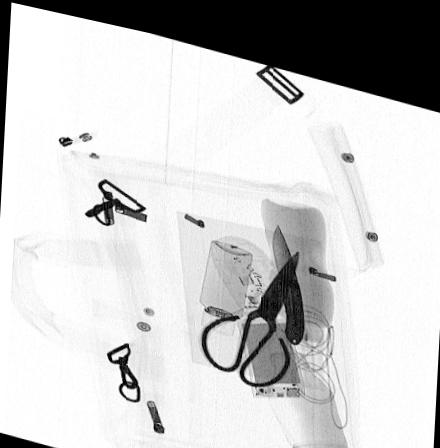Knife: (269, 210, 306, 331)
Powerbank: (235, 307, 304, 385)
Scissors: (197, 235, 299, 377)
Sprayer: (197, 231, 250, 326)
